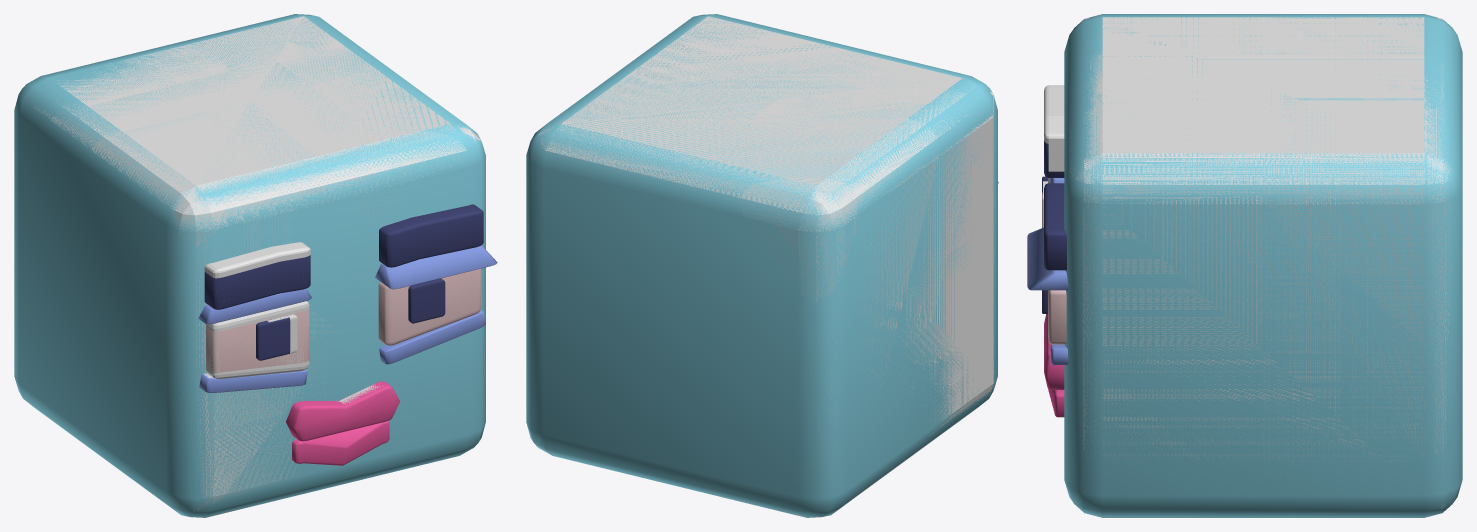
Rendered from Robot Fros.glb.
3 views of the same model, side by side, from view 1: azimuth 30°, elevation 25°; view 2: azimuth 150°, elevation 25°; view 3: azimuth 270°, elevation 25° (orthographic). The views are drawn at different scales.
Visible parts, largest first — view 1: rOBOT hEAD.001, Cube.001, rOBOT hEAD.010, rOBOT hEAD.011; view 2: rOBOT hEAD.001, Cube.001; view 3: rOBOT hEAD.001, Cube.001, rOBOT hEAD.011.
Boxes of the visible parts, x1,y1,x2,y2 form: rOBOT hEAD.001: [14, 14, 497, 517]; Cube.001: [26, 16, 481, 517]; rOBOT hEAD.010: [206, 301, 309, 379]; rOBOT hEAD.011: [204, 242, 310, 278]; rOBOT hEAD.001: [526, 14, 998, 517]; Cube.001: [538, 16, 993, 517]; rOBOT hEAD.001: [1027, 14, 1462, 517]; Cube.001: [1069, 17, 1451, 517]; rOBOT hEAD.011: [1044, 85, 1064, 171].
Size of the model in its own units: 2 by 2 by 2.19.
